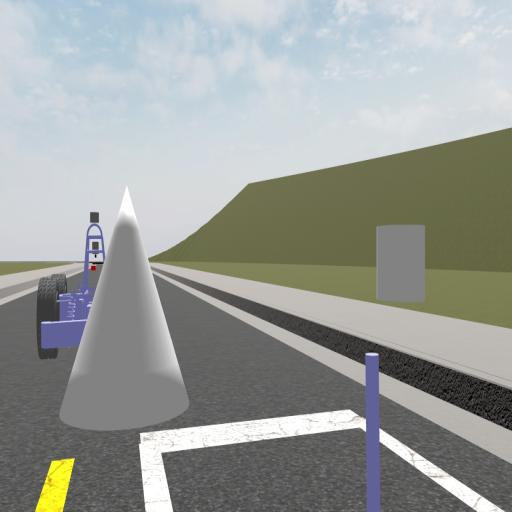ERP-42: (38, 212, 106, 360)
